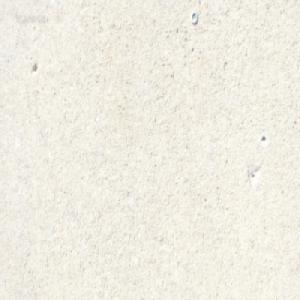Washer: (190, 9, 198, 24)
